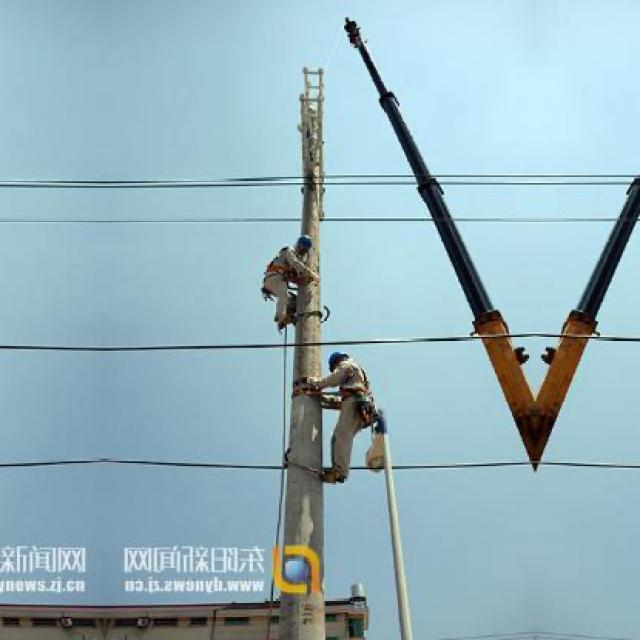helmet: (326, 346, 356, 377), (290, 231, 321, 255)
